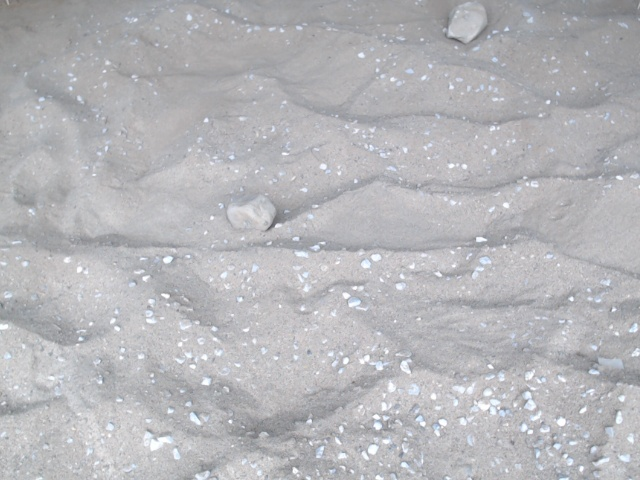rock: (221, 188, 280, 236), (440, 1, 495, 49)
